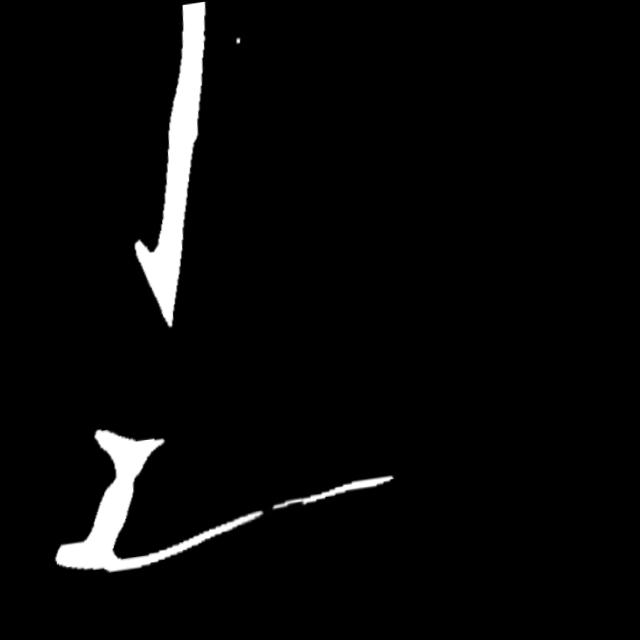sup: (256, 497, 293, 528)
